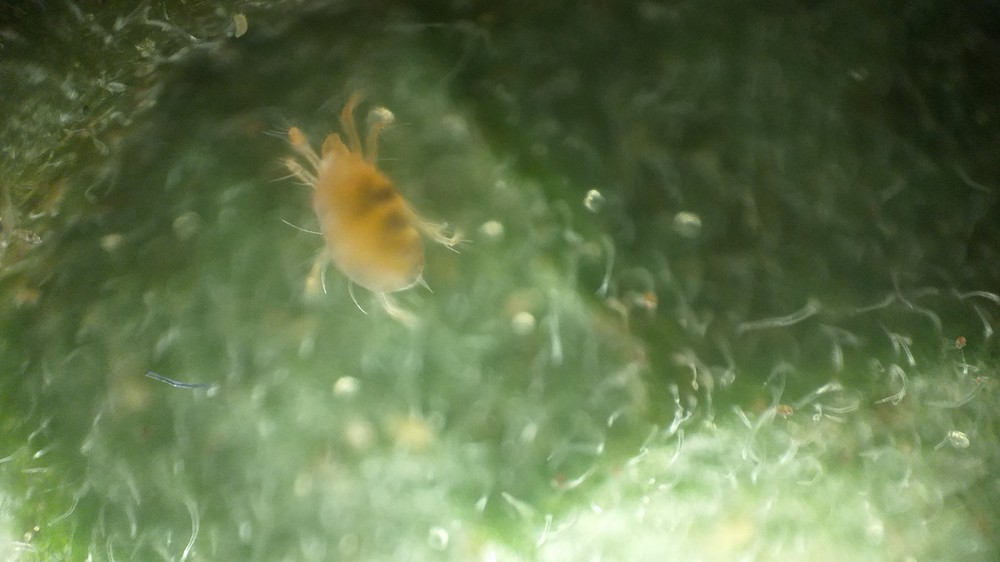Aracnido Rojo: (235, 95, 506, 339)
